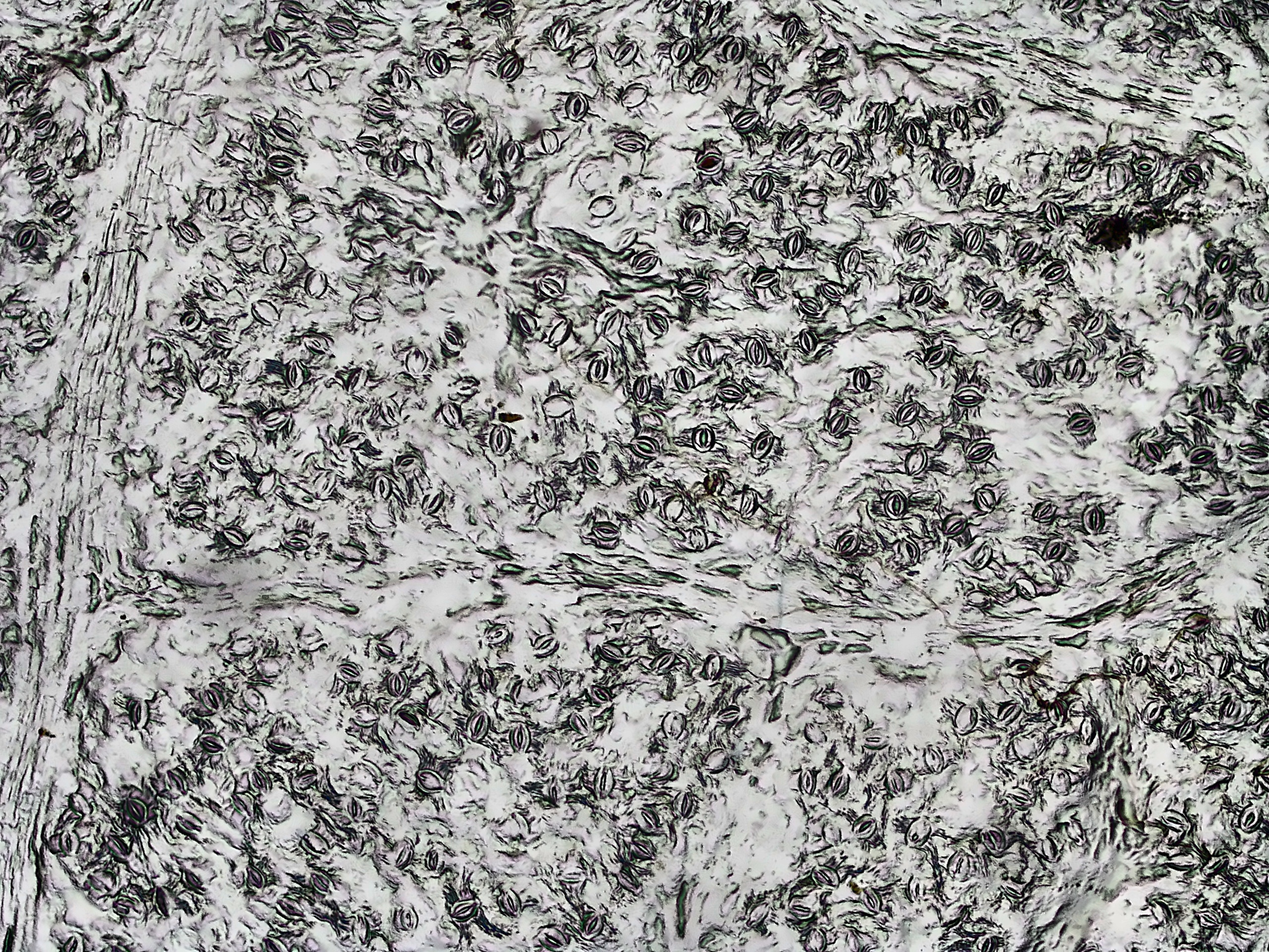stomata: (549, 14, 575, 50), (837, 242, 862, 275), (954, 704, 979, 736), (947, 849, 971, 882), (965, 437, 995, 463), (264, 243, 287, 276), (351, 298, 384, 321), (252, 299, 280, 326), (416, 768, 445, 794), (746, 335, 769, 367), (275, 896, 307, 919), (425, 49, 451, 77), (696, 147, 724, 173), (538, 927, 567, 952), (660, 711, 685, 740), (284, 358, 308, 388), (394, 709, 424, 733), (542, 395, 573, 418), (810, 863, 841, 886), (1159, 808, 1190, 831), (488, 173, 510, 205), (490, 423, 512, 455), (351, 238, 378, 264), (548, 318, 572, 347), (175, 811, 204, 835), (884, 489, 908, 518), (498, 887, 521, 917), (466, 711, 489, 741), (1115, 354, 1145, 377), (534, 480, 556, 511), (498, 55, 524, 81), (634, 807, 659, 834), (980, 826, 1005, 853), (240, 195, 268, 219), (409, 263, 433, 291), (733, 109, 761, 133), (594, 767, 615, 799), (951, 386, 983, 407), (241, 685, 265, 713), (446, 109, 475, 132), (689, 65, 712, 94), (630, 435, 659, 458), (692, 423, 715, 452), (923, 744, 946, 773), (1039, 262, 1069, 284), (299, 833, 329, 855), (203, 274, 228, 300), (621, 83, 647, 108), (683, 207, 707, 234), (89, 871, 116, 895), (704, 748, 731, 772), (940, 512, 967, 536), (906, 817, 930, 844), (675, 279, 709, 298), (305, 270, 328, 298), (501, 140, 524, 168), (565, 92, 588, 120), (715, 381, 747, 401), (671, 37, 693, 66), (269, 119, 299, 140), (449, 899, 479, 920), (834, 531, 859, 556), (268, 153, 294, 177), (782, 124, 808, 148), (248, 767, 271, 794), (1239, 804, 1262, 831), (1049, 768, 1072, 795), (867, 178, 887, 209), (352, 705, 380, 727), (300, 332, 329, 353), (152, 887, 173, 916), (265, 27, 290, 51), (974, 94, 996, 121), (697, 340, 719, 367), (379, 397, 401, 424), (166, 769, 188, 796), (898, 537, 920, 564), (874, 101, 893, 132), (1202, 383, 1221, 414), (288, 201, 316, 222), (384, 150, 405, 178), (673, 365, 694, 393), (260, 408, 288, 429), (509, 724, 530, 752), (905, 446, 926, 474), (1084, 504, 1105, 532), (225, 230, 254, 250), (327, 17, 356, 37), (24, 330, 53, 350), (1065, 413, 1094, 433), (439, 328, 463, 352), (632, 250, 657, 273), (230, 794, 253, 819), (1213, 250, 1238, 273), (210, 325, 236, 347), (412, 139, 434, 165), (208, 449, 234, 471), (1068, 160, 1094, 182), (974, 486, 996, 512), (789, 897, 815, 919), (616, 133, 646, 152), (739, 489, 758, 519), (814, 88, 841, 109), (441, 399, 462, 426), (751, 431, 772, 458), (368, 98, 396, 118), (963, 226, 983, 254), (130, 701, 150, 729), (199, 733, 227, 753), (906, 873, 926, 901), (1163, 654, 1183, 682), (308, 67, 331, 91), (310, 871, 334, 894), (924, 346, 948, 369), (997, 700, 1021, 723), (861, 729, 890, 748), (751, 174, 773, 199), (406, 348, 428, 373), (201, 687, 223, 712), (533, 635, 558, 657), (1064, 357, 1086, 382), (616, 40, 637, 66), (602, 310, 623, 336), (59, 829, 80, 855), (454, 376, 480, 397), (861, 887, 882, 913), (1183, 613, 1209, 634), (17, 221, 37, 248), (570, 47, 597, 67), (949, 105, 969, 132), (179, 500, 206, 520), (280, 531, 310, 549), (597, 643, 624, 663), (591, 522, 621, 540), (664, 495, 684, 522), (589, 196, 616, 216), (704, 653, 724, 680), (390, 840, 410, 867), (535, 279, 563, 298), (247, 864, 266, 892), (751, 62, 774, 85), (939, 164, 962, 187), (1014, 239, 1037, 262), (569, 710, 592, 733), (853, 814, 876, 837), (1084, 312, 1106, 336), (1203, 853, 1227, 875), (198, 363, 219, 388), (724, 37, 745, 62), (829, 145, 850, 170), (977, 287, 1002, 308), (517, 309, 538, 334), (485, 624, 510, 645), (897, 401, 918, 426), (1007, 787, 1032, 808), (179, 870, 204, 891), (359, 196, 377, 225), (1046, 698, 1066, 724), (785, 231, 804, 258), (909, 282, 932, 304), (48, 201, 72, 222), (647, 311, 668, 335), (423, 489, 444, 513), (1201, 295, 1222, 319), (315, 471, 333, 499), (673, 792, 693, 817), (747, 902, 767, 927), (721, 223, 747, 242), (372, 475, 391, 501), (633, 374, 650, 403), (266, 734, 293, 752), (964, 588, 991, 606), (31, 113, 54, 134), (883, 771, 904, 794), (541, 667, 562, 690), (1147, 29, 1171, 49), (587, 357, 607, 381), (222, 527, 246, 547), (1005, 660, 1035, 676), (1196, 909, 1220, 929), (540, 128, 559, 153), (905, 121, 924, 146), (127, 798, 146, 823), (1221, 343, 1246, 362), (582, 451, 601, 476), (799, 328, 817, 354), (650, 653, 676, 671), (830, 771, 848, 797), (1078, 717, 1096, 743), (107, 833, 128, 855), (630, 838, 653, 858), (388, 672, 408, 695), (827, 411, 847, 434), (1034, 502, 1057, 522), (1143, 701, 1163, 724), (176, 223, 200, 242), (907, 229, 926, 253), (782, 16, 800, 41), (753, 270, 778, 288), (1187, 446, 1212, 464), (1213, 654, 1231, 679), (1068, 820, 1085, 846), (1044, 539, 1065, 560), (818, 281, 840, 301), (1040, 838, 1060, 860), (27, 164, 50, 183), (392, 67, 411, 90), (348, 368, 367, 391), (355, 135, 379, 153), (1044, 201, 1062, 225), (637, 483, 655, 507), (1034, 361, 1051, 386), (799, 296, 821, 315), (1144, 440, 1163, 462), (209, 187, 225, 213), (799, 769, 815, 795), (339, 431, 365, 447), (854, 367, 871, 391), (816, 48, 843, 63), (1016, 578, 1036, 598), (718, 705, 739, 724), (1222, 698, 1240, 720), (1132, 158, 1155, 175), (585, 914, 602, 937), (337, 664, 360, 681), (478, 668, 495, 691), (1204, 497, 1234, 510), (1176, 717, 1194, 738), (1001, 880, 1022, 898), (975, 545, 990, 570), (987, 183, 1004, 205), (398, 456, 420, 473), (400, 907, 417, 929), (180, 310, 199, 329), (466, 138, 484, 158), (1182, 165, 1202, 183), (690, 528, 707, 549), (1216, 7, 1235, 25), (347, 797, 362, 819), (592, 684, 610, 702), (296, 772, 316, 788), (1133, 654, 1149, 674), (549, 778, 560, 804), (375, 643, 394, 658), (425, 849, 438, 870), (1243, 895, 1259, 910)
